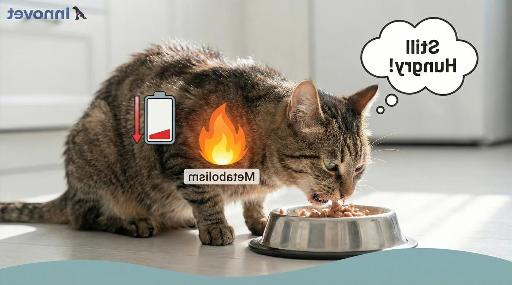cat_eating: (0, 40, 418, 261)
